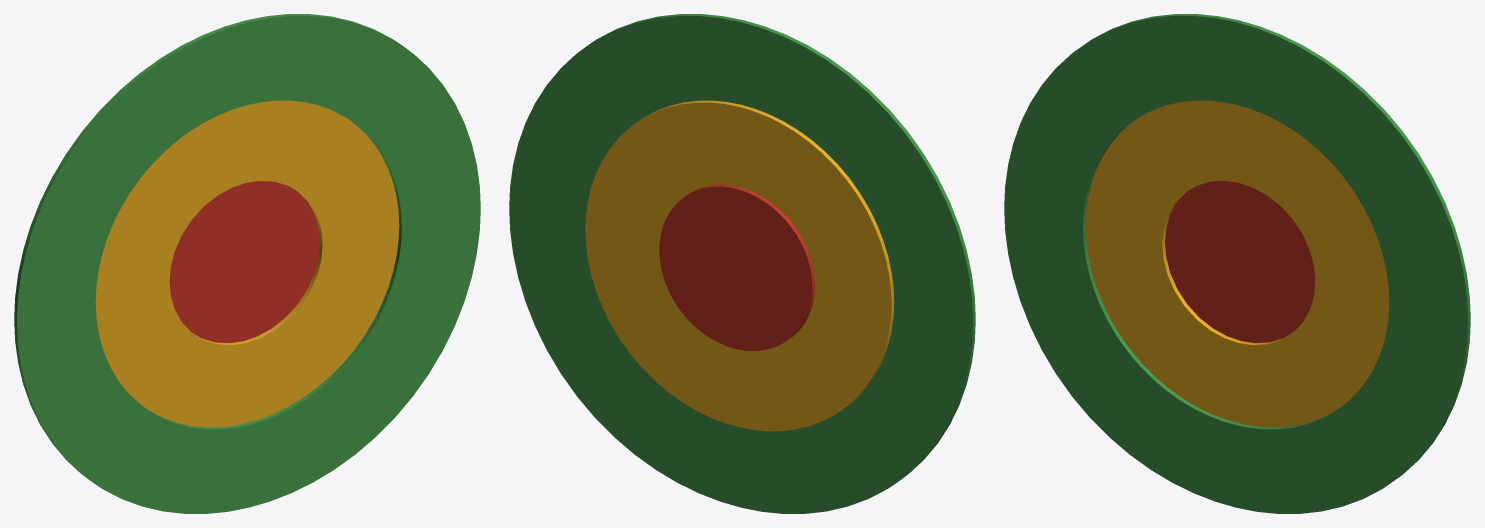
The model's file is diana v1.fbx.
3 views of the same model, side by side, from view 1: azimuth 30°, elevation 25°; view 2: azimuth 150°, elevation 25°; view 3: azimuth 330°, elevation 25° (orthographic).
Parts seen in each view (by area): view 1: Body1, Body2, Body3; view 2: Body1, Body2, Body3; view 3: Body1, Body2, Body3.
Part boxes in pixels (bbox=[...]): Body1: bbox=[14, 14, 480, 513]; Body2: bbox=[95, 100, 399, 427]; Body3: bbox=[169, 181, 319, 343]; Body1: bbox=[509, 14, 975, 513]; Body2: bbox=[585, 100, 894, 431]; Body3: bbox=[659, 184, 814, 350]; Body1: bbox=[1004, 14, 1470, 513]; Body2: bbox=[1085, 100, 1389, 427]; Body3: bbox=[1165, 181, 1315, 343].
Bounding box in the file's own units: 100 × 100 × 3.
